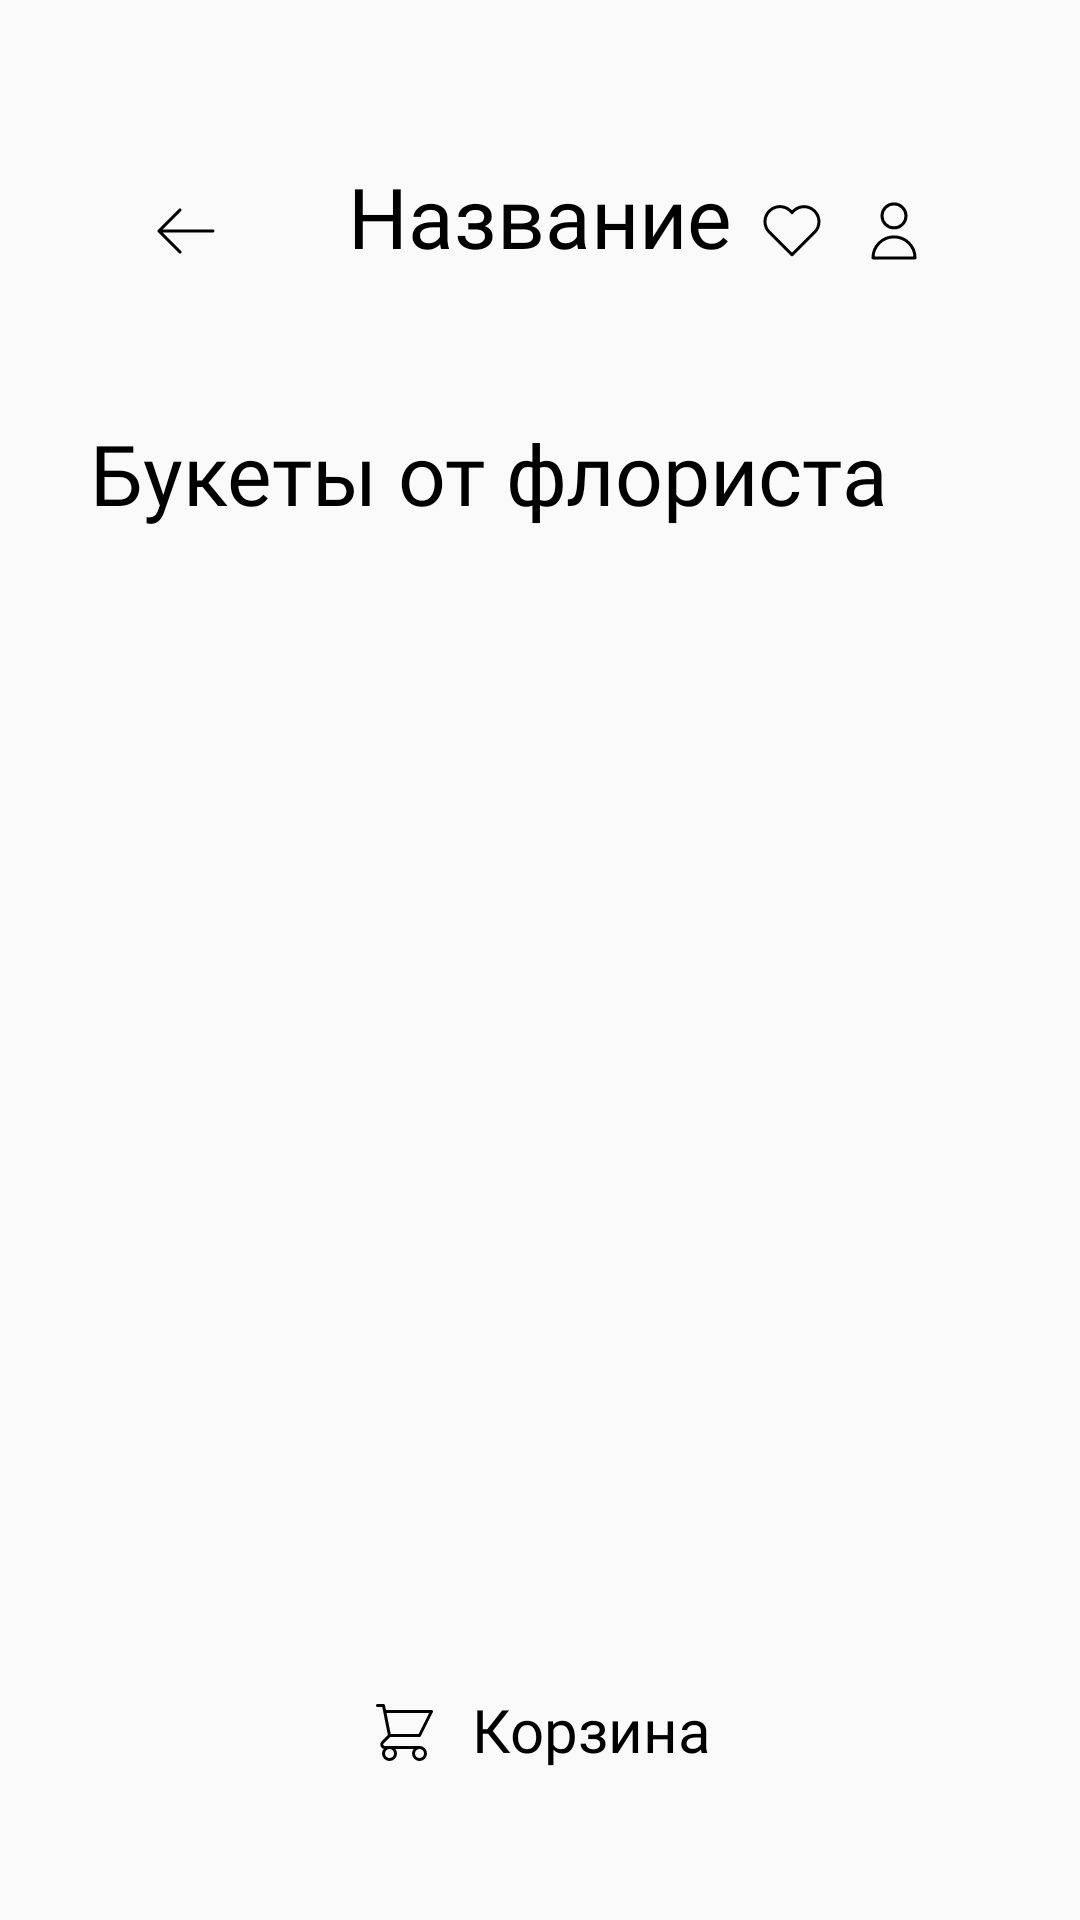

Screen size 1080x1920. Icon name, then its center in pixels as [x,y]:
arrow left: [186,231]
player heart: [792,231]
shopping cart: [404,1732]
user: [894,231]
